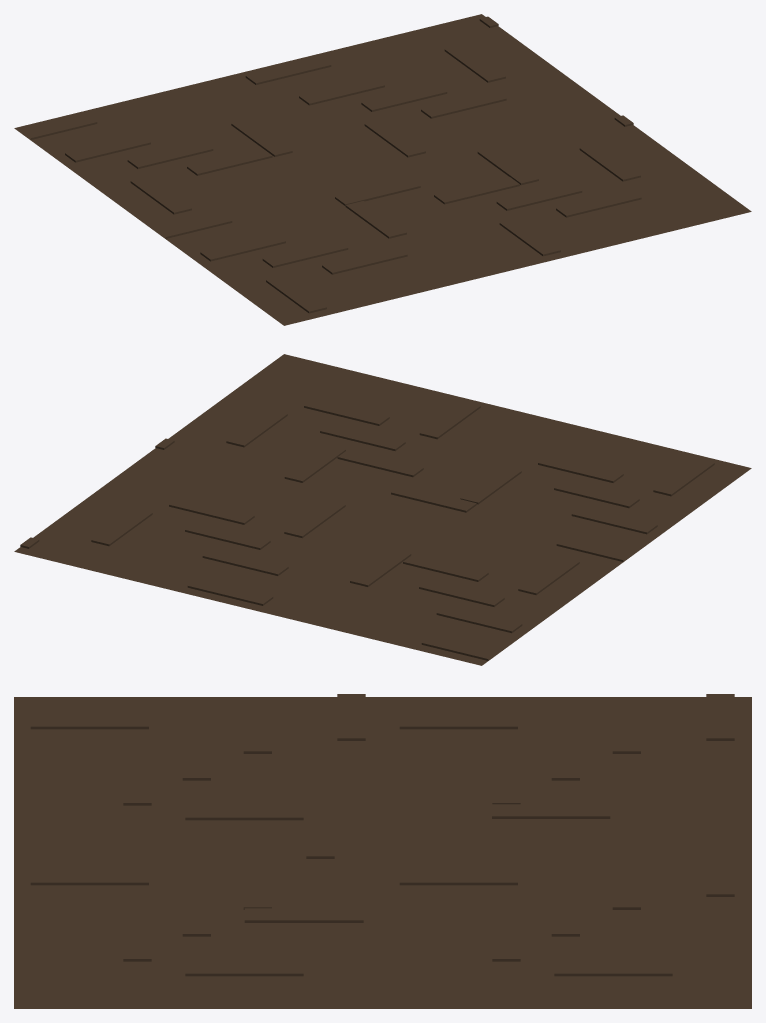
File: fantasy-dungeon-floor-wood.glb
3 views of the same model, one above another, from view 1: azimuth 30°, elevation 25°; view 2: azimuth 150°, elevation 25°; view 3: azimuth 270°, elevation 25° (orthographic). The views are drawn at different scales.
Parts seen in each view (by area): view 1: dungeon-floor-wood; view 2: dungeon-floor-wood; view 3: dungeon-floor-wood.
Part boxes in pixels (x1,y1,x2,y2): dungeon-floor-wood: (14,14,751,325); dungeon-floor-wood: (14,354,751,665); dungeon-floor-wood: (14,694,751,1008).
Size of the model in its own units: 4 by 0.018 by 4.
